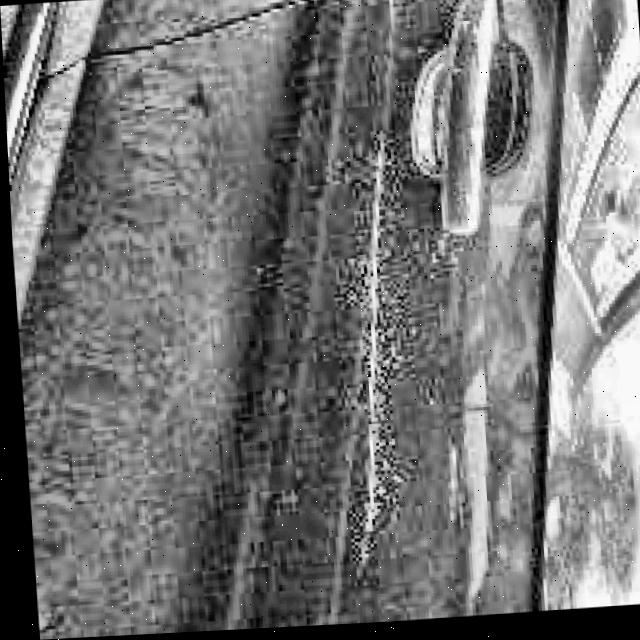door_scratch: (317, 0, 433, 533)
